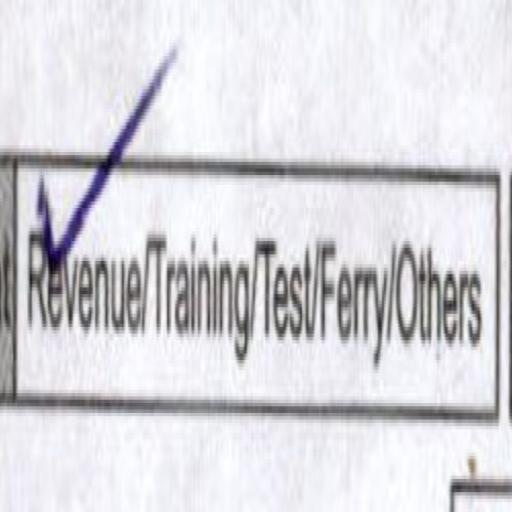check: (20, 77, 146, 461)
